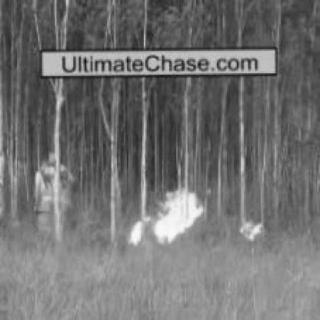Fire: (126, 188, 212, 246), (236, 216, 266, 240)
